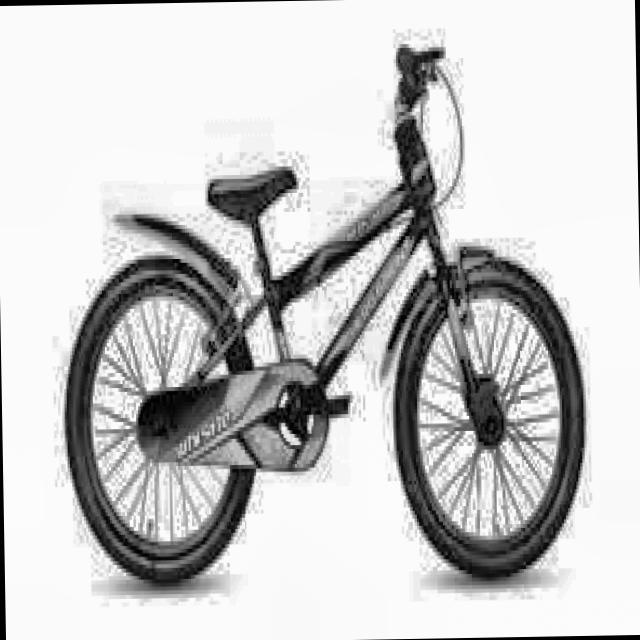bicycle: (56, 38, 593, 598)
